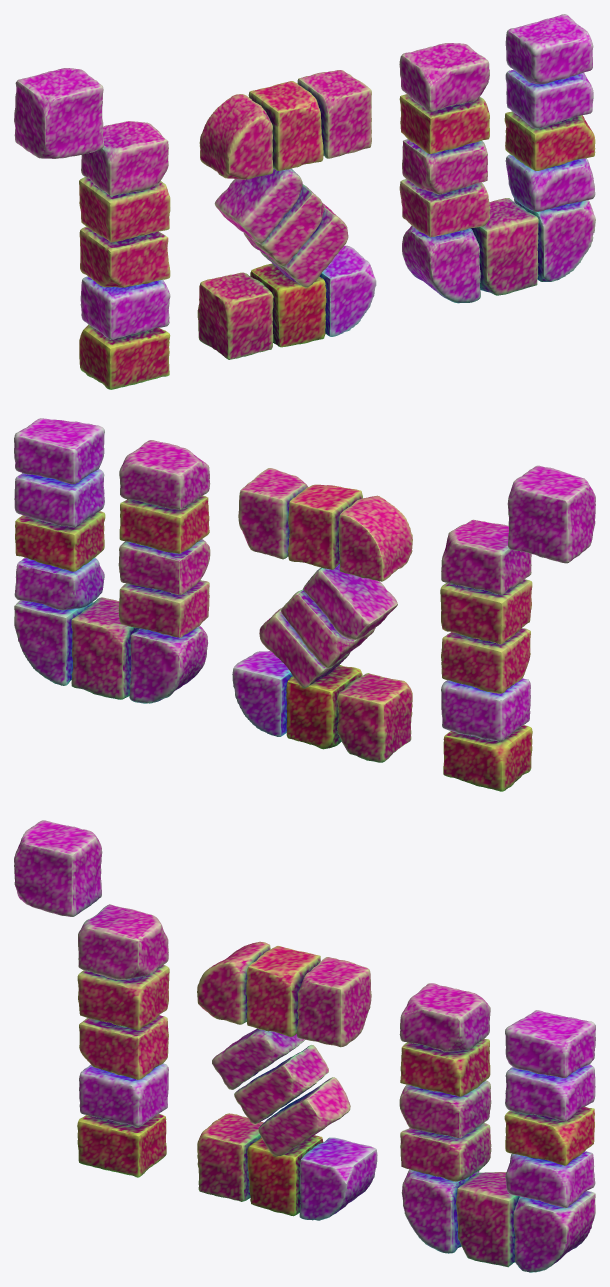
The model's file is isu-blocks.glb.
3 views of the same model, one above another, from view 1: azimuth 30°, elevation 25°; view 2: azimuth 150°, elevation 25°; view 3: azimuth 330°, elevation 25° (orthographic).
Visible parts, largest first — view 1: block-05, block-12, block-06, block-24, block-04, block-18, block-22, block-23, block-00, block-08, block-07, block-02 (+14 smaller); view 2: block-05, block-12, block-24, block-06, block-04, block-22, block-18, block-23, block-03, block-02, block-00, block-01 (+14 smaller); view 3: block-05, block-04, block-08, block-14, block-18, block-22, block-24, block-25, block-07, block-00, block-03, block-01 (+14 smaller).
Part boxes in pixels (x1=…): block-05: x1=14, y1=68, x2=103, y2=158; block-12: x1=197, y1=272, x2=273, y2=359; block-06: x1=199, y1=94, x2=273, y2=179; block-24: x1=470, y1=198, x2=538, y2=295; block-04: x1=81, y1=121, x2=168, y2=196; block-18: x1=399, y1=43, x2=489, y2=111; block-22: x1=505, y1=14, x2=593, y2=84; block-23: x1=402, y1=225, x2=480, y2=303; block-00: x1=79, y1=324, x2=170, y2=389; block-08: x1=297, y1=70, x2=371, y2=158; block-07: x1=248, y1=81, x2=323, y2=170; block-02: x1=79, y1=226, x2=170, y2=287; block-05: x1=507, y1=465, x2=595, y2=563; block-12: x1=337, y1=673, x2=412, y2=762; block-24: x1=71, y1=597, x2=139, y2=699; block-06: x1=338, y1=495, x2=412, y2=581; block-04: x1=441, y1=519, x2=531, y2=594; block-22: x1=14, y1=418, x2=104, y2=484; block-18: x1=119, y1=440, x2=210, y2=509; block-23: x1=129, y1=626, x2=208, y2=703; block-03: x1=440, y1=579, x2=532, y2=644; block-02: x1=441, y1=628, x2=530, y2=693; block-00: x1=443, y1=725, x2=532, y2=791; block-01: x1=441, y1=678, x2=530, y2=741; block-05: x1=14, y1=820, x2=102, y2=916; block-04: x1=78, y1=904, x2=168, y2=979; block-08: x1=297, y1=957, x2=371, y2=1047; block-14: x1=299, y1=1137, x2=377, y2=1220; block-18: x1=399, y1=983, x2=490, y2=1051; block-22: x1=505, y1=1010, x2=595, y2=1078; block-24: x1=456, y1=1172, x2=519, y2=1267; block-25: x1=513, y1=1191, x2=595, y2=1272; block-07: x1=246, y1=946, x2=320, y2=1036; block-00: x1=77, y1=1114, x2=166, y2=1177; block-03: x1=77, y1=965, x2=169, y2=1030; block-01: x1=79, y1=1063, x2=168, y2=1126.
Size of the model in its own units: 7.42 by 3.95 by 0.766.
